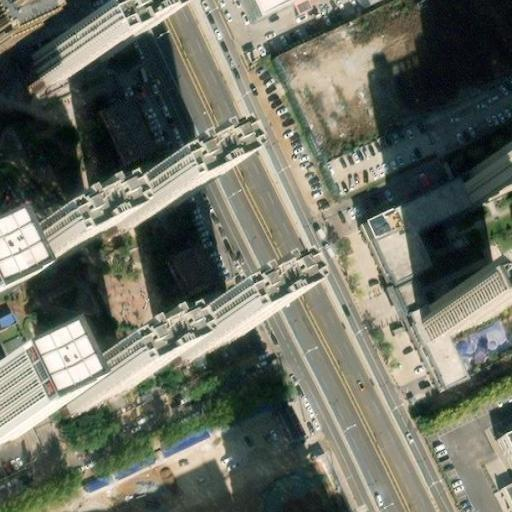building: (368, 173, 512, 285), (23, 23, 111, 88), (410, 300, 469, 383), (423, 281, 508, 338), (153, 309, 232, 370), (88, 179, 167, 240), (50, 357, 129, 417), (0, 219, 71, 279), (101, 97, 160, 169), (170, 243, 218, 297), (157, 422, 212, 460), (398, 272, 438, 312), (494, 421, 511, 464), (484, 153, 512, 171), (501, 484, 512, 512)
